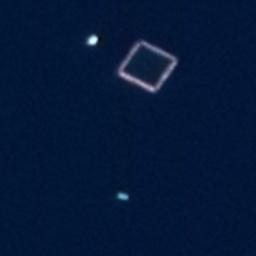square_solid: (112, 32, 184, 100)
